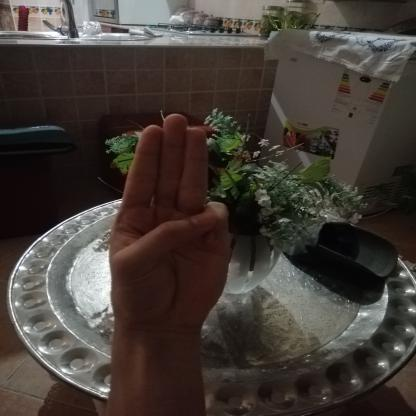THA: (97, 103, 247, 345)
